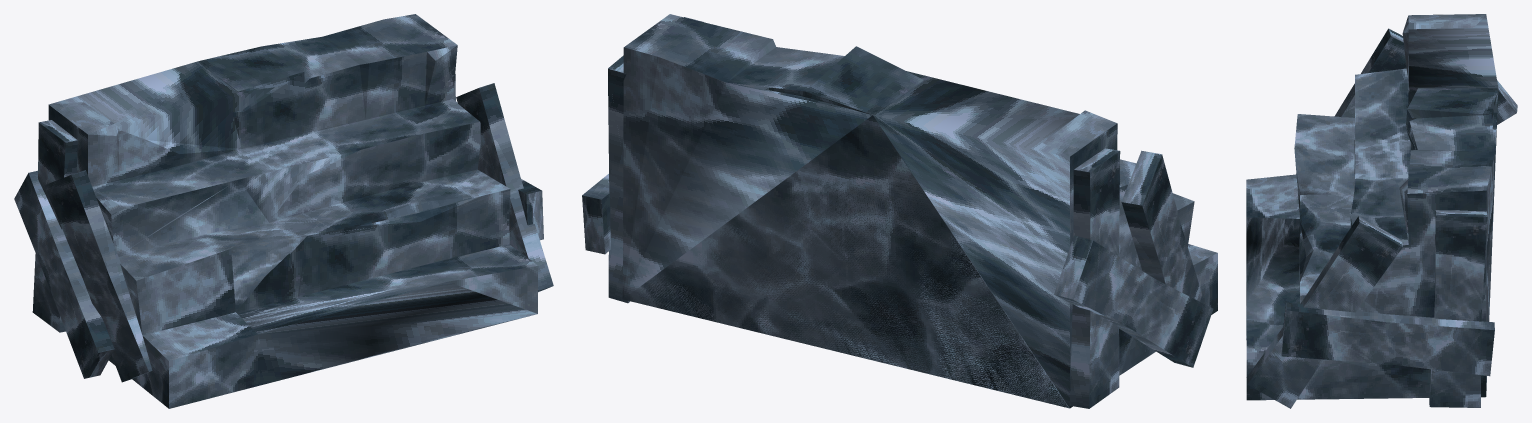
The model's file is item_castle_steps_ice.glb.
3 renders of one model, left to right at view 1: azimuth 30°, elevation 25°; view 2: azimuth 150°, elevation 25°; view 3: azimuth 270°, elevation 25°, orthographic. The views are drawn at different scales.
Visible parts, largest first — view 1: Stairs; view 2: Stairs; view 3: Stairs.
Part boxes in pixels (bbox=[...]): Stairs: bbox=[14, 14, 553, 408]; Stairs: bbox=[582, 14, 1217, 408]; Stairs: bbox=[1246, 14, 1517, 408].
Size of the model in its own units: 1.64 by 0.8187 by 0.9031.
Materials: 1 (1 with a texture image).
